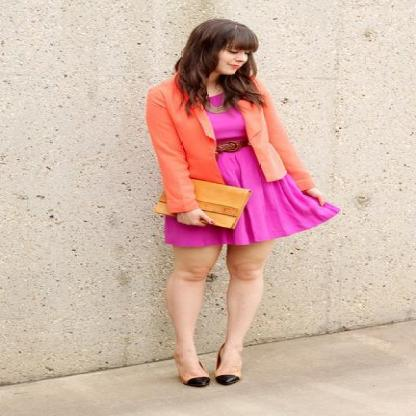bag: (192, 180, 250, 224)
dress: (163, 94, 339, 246)
jacket: (147, 77, 311, 214)
shoe: (169, 362, 236, 387)
